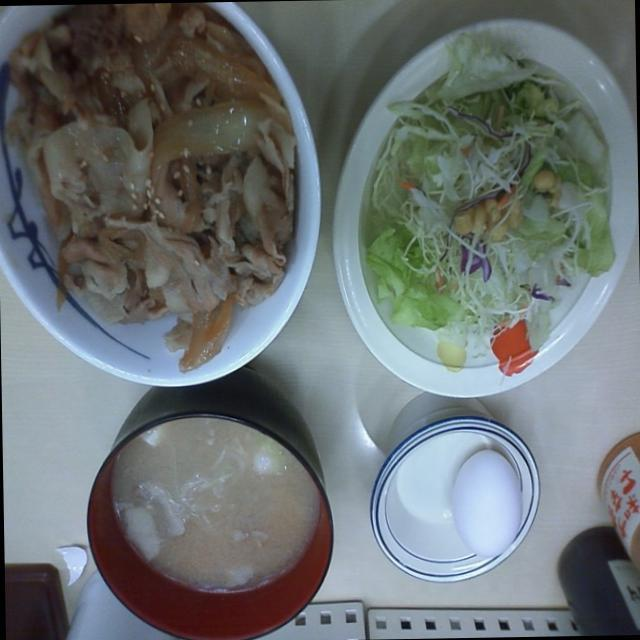Egg: (442, 442, 530, 568)
Green Salad: (348, 39, 622, 378)
